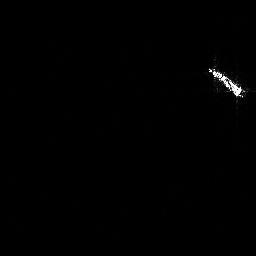ship: (203, 65, 248, 99)
